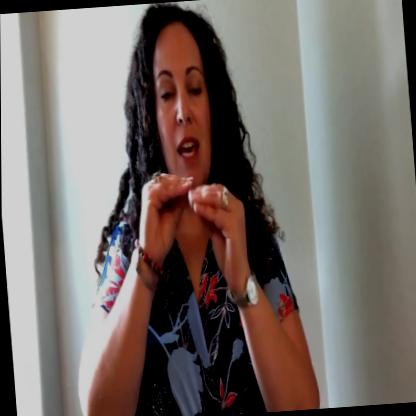Fix: (133, 146, 253, 319)
